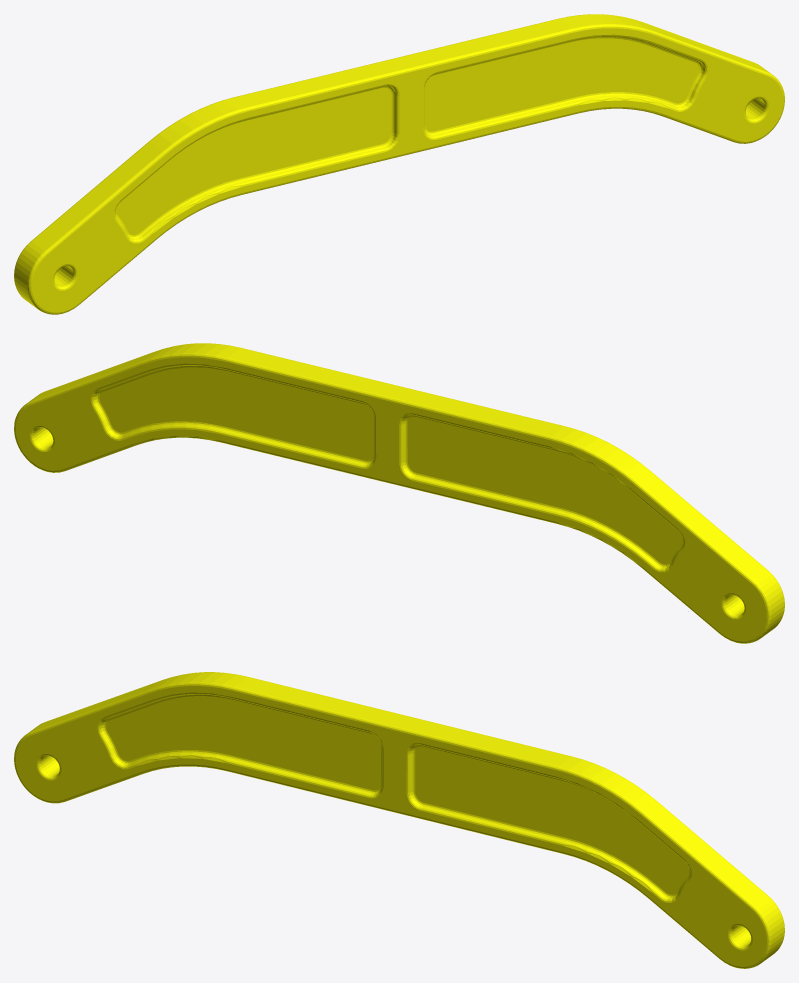
3 views of the same model, one above another, from view 1: azimuth 30°, elevation 25°; view 2: azimuth 150°, elevation 25°; view 3: azimuth 330°, elevation 25° (orthographic).
Parts seen in each view (by area): view 1: node; view 2: node; view 3: node.
Boxes of the visible parts, x1,y1,x2,y2 form: node: (14, 14, 784, 314); node: (14, 343, 784, 643); node: (14, 672, 784, 968).
Bounding box in the file's own units: 1336 × 272 × 97.85.
